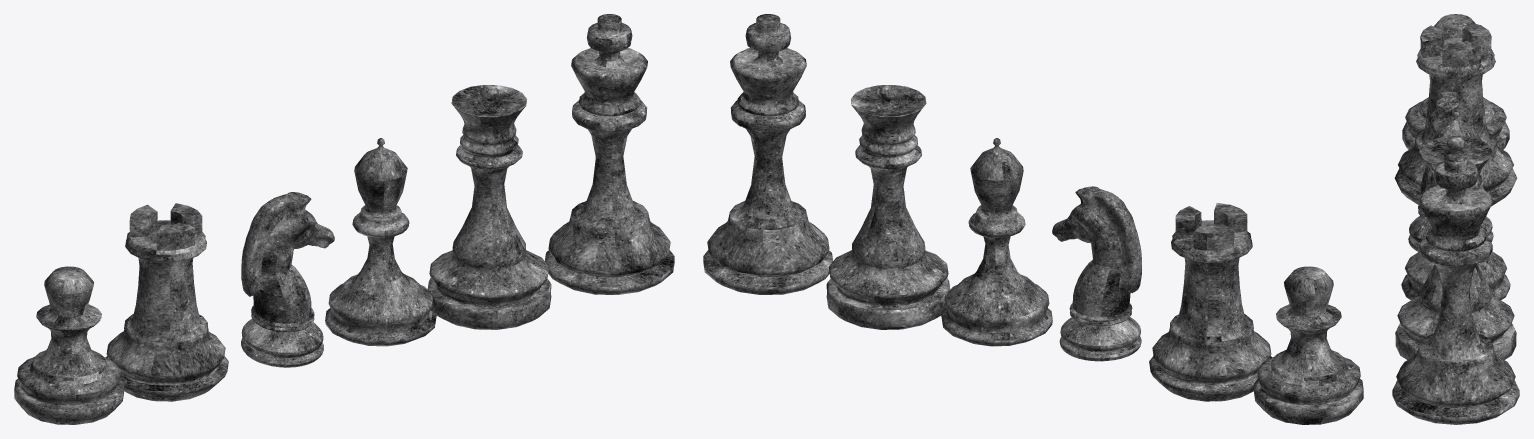
The model's file is ajedrez.glb.
The picture shows the model from 3 angles, left to right: view 1: azimuth 30°, elevation 25°; view 2: azimuth 150°, elevation 25°; view 3: azimuth 270°, elevation 25°; orthographic projection. The views are drawn at different scales.
Parts seen in each view (by area): view 1: Object_3, Object_4, Object_5; view 2: Object_3, Object_4, Object_5; view 3: Object_3, Object_4, Object_5.
Part boxes in pixels (x1,y1,x2,y2): Object_3: (14,14,674,424); Object_4: (105,138,436,401); Object_5: (241,192,334,367); Object_3: (703,14,1363,424); Object_4: (941,138,1272,401); Object_5: (1052,186,1141,361); Object_3: (1392,14,1519,424); Object_4: (1394,22,1517,299); Object_5: (1408,91,1493,251).
Size of the model in its own units: 34.21 by 13.2 by 6.04.
Materials: 1 (1 with a texture image).
